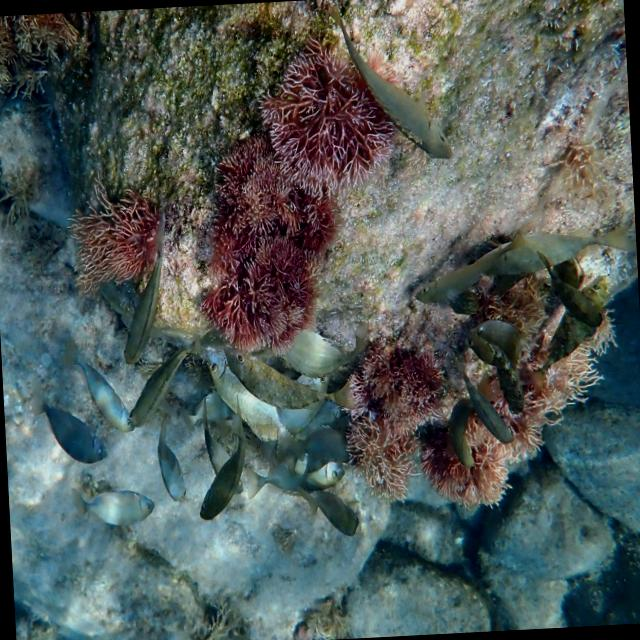Sokar Baligi: (326, 0, 463, 173), (113, 195, 178, 372), (37, 392, 111, 477), (74, 481, 162, 535)
